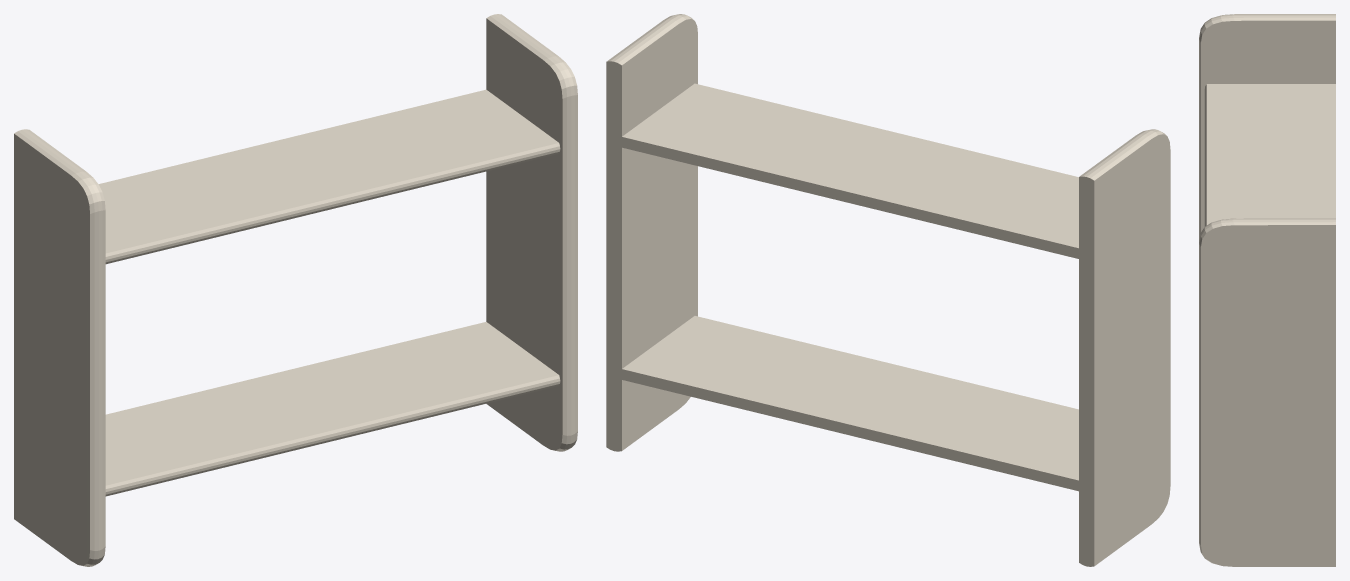
The model's file is WallShelf.dae.
3 renders of one model, left to right at view 1: azimuth 30°, elevation 25°; view 2: azimuth 150°, elevation 25°; view 3: azimuth 270°, elevation 25°, orthographic. The views are drawn at different scales.
Parts seen in each view (by area): view 1: WShelfDesign; view 2: WShelfDesign; view 3: WShelfDesign.
Boxes of the visible parts, x1=… form: WShelfDesign: x1=14, y1=14, x2=577, y2=566; WShelfDesign: x1=606, y1=14, x2=1170, y2=566; WShelfDesign: x1=1199, y1=14, x2=1335, y2=566.
Size of the model in its own units: 0.7188 by 0.1969 by 0.5483.
